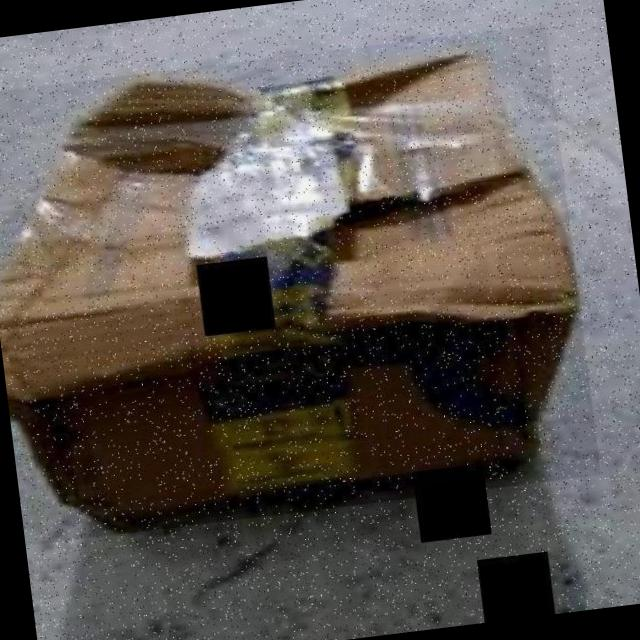box: (0, 24, 601, 545)
